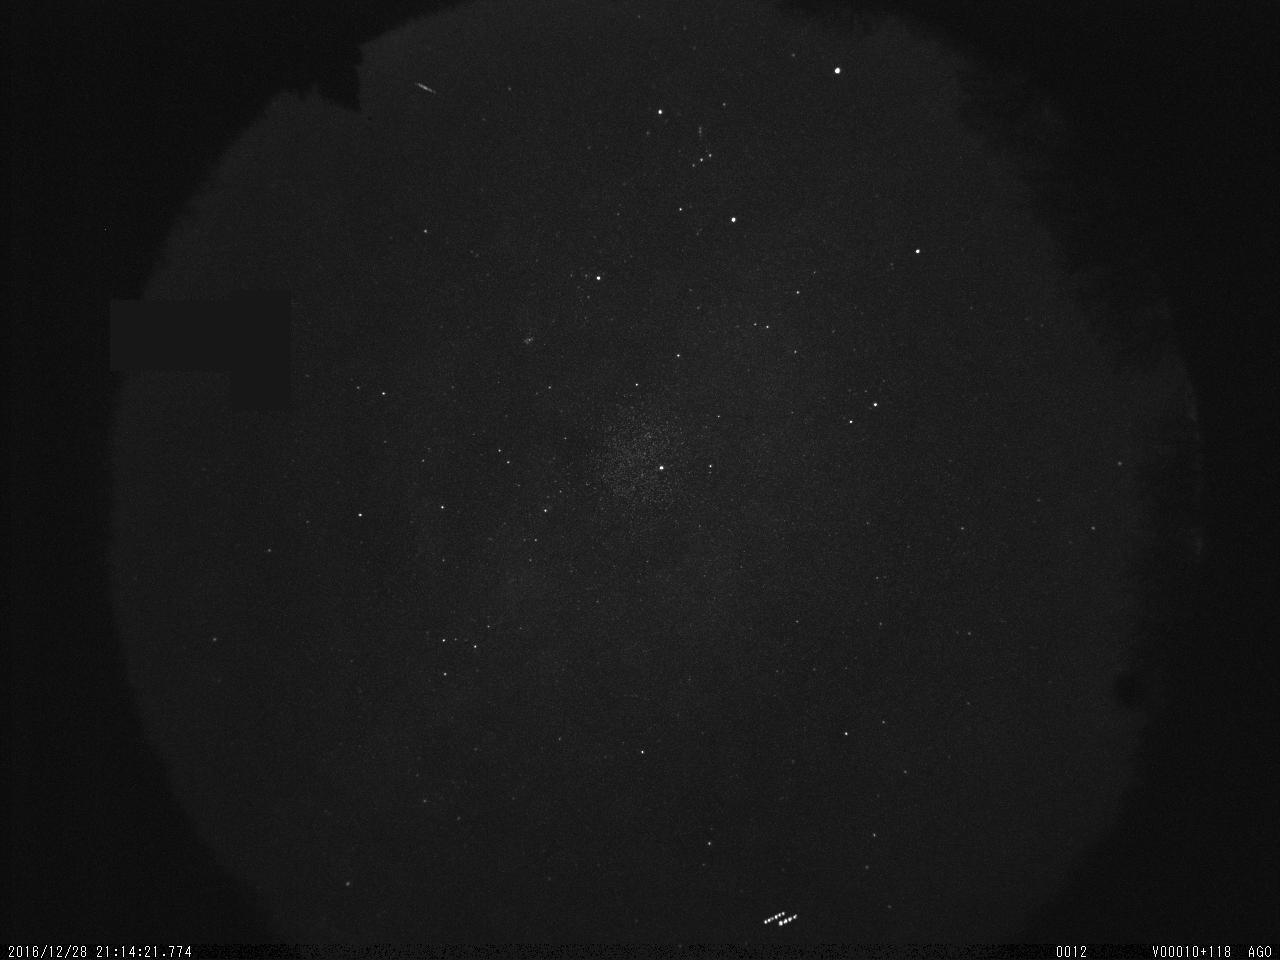meteor: (412, 78, 445, 98)
satelite: (759, 906, 790, 927), (775, 911, 803, 933)
